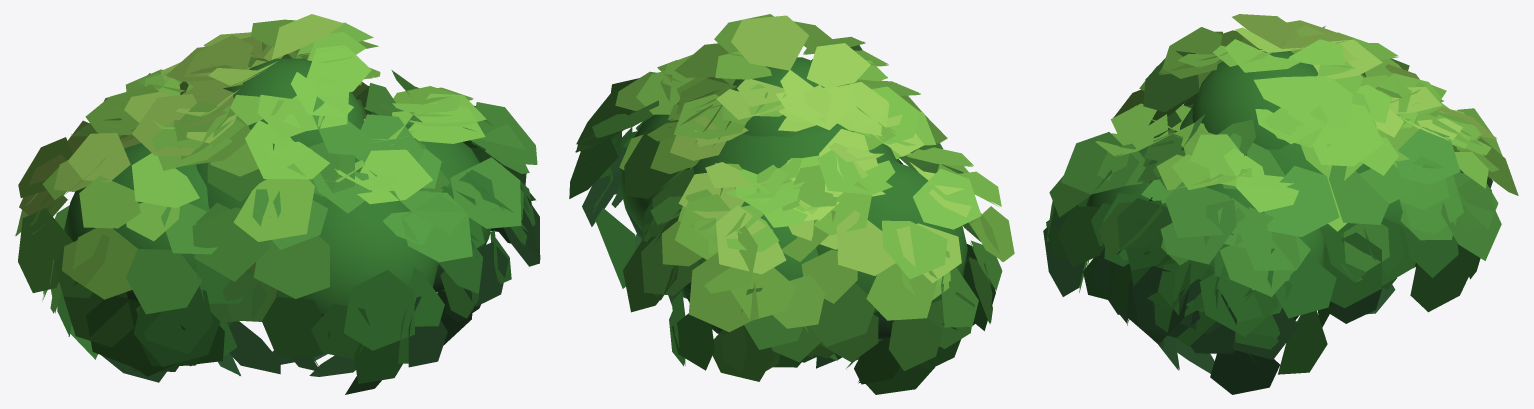
File: Bush.glb
The picture shows the model from 3 angles, left to right: view 1: azimuth 30°, elevation 25°; view 2: azimuth 150°, elevation 25°; view 3: azimuth 270°, elevation 25°; orthographic projection. The views are drawn at different scales.
Parts seen in each view (by area): view 1: Sway; view 2: Sway; view 3: Sway.
Part boxes in pixels (box(x1,y1,x2,y2)): Sway: box(15, 14, 540, 394); Sway: box(569, 14, 1014, 394); Sway: box(1043, 14, 1518, 394).
Bounding box in the file's own units: 4.68 × 3.3 × 4.44.
Materials: 1 (1 with a texture image).
